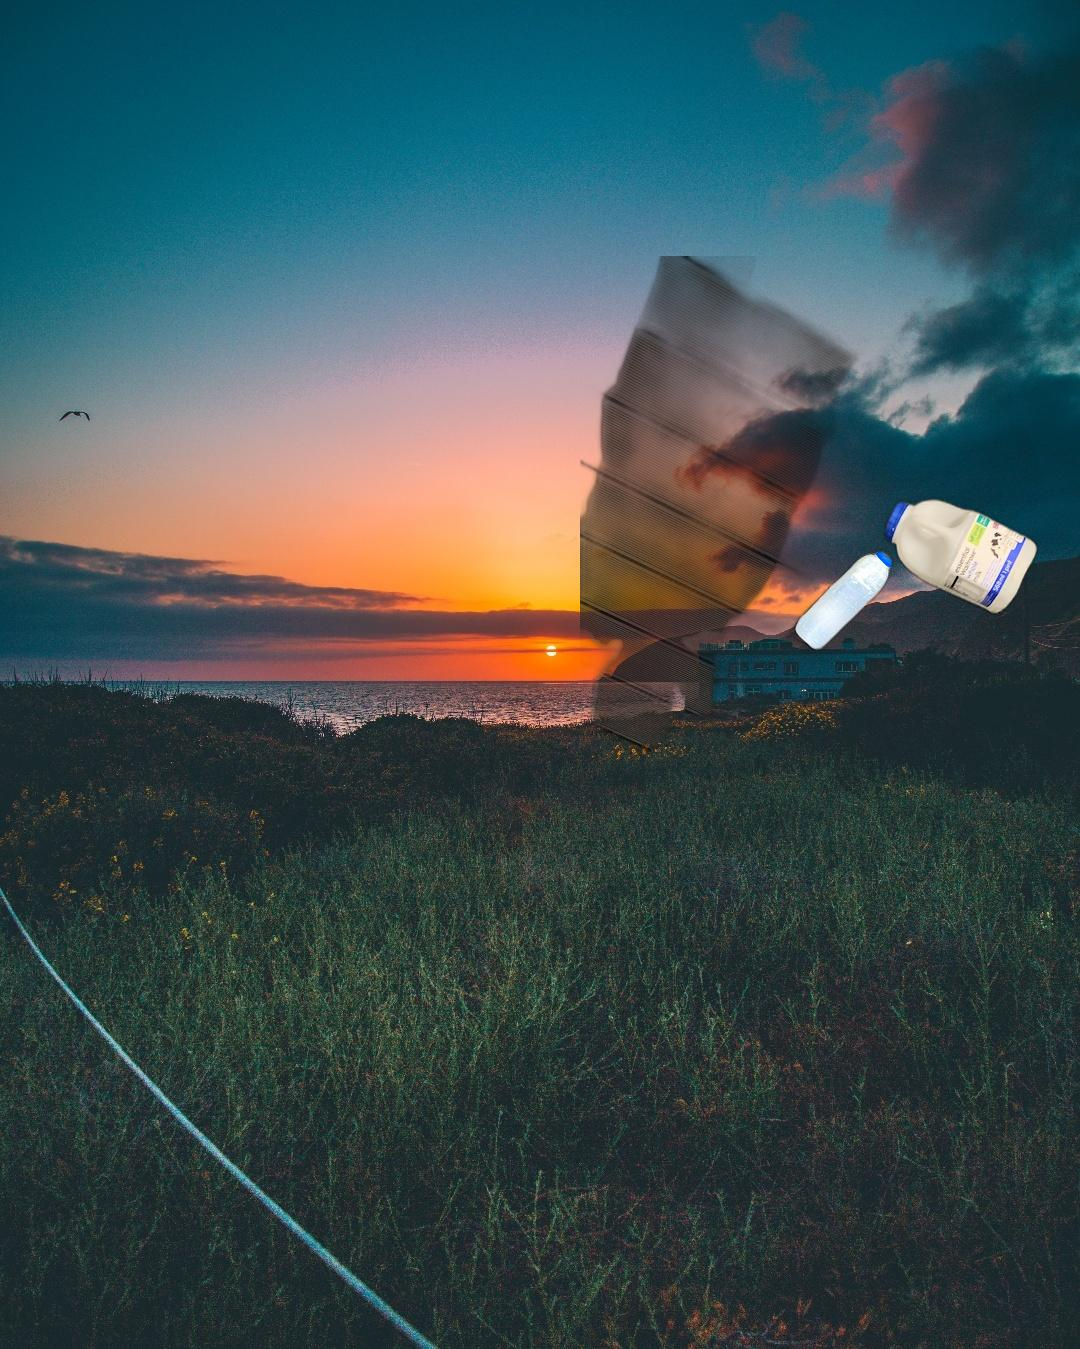plastic-bottles: (580, 256, 910, 779), (836, 371, 1052, 619)
